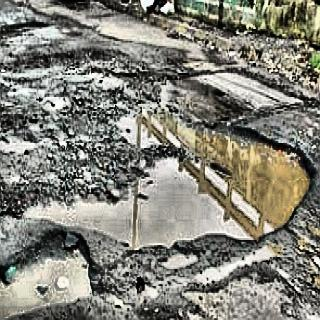pothole: (0, 102, 313, 245), (2, 228, 91, 320)
